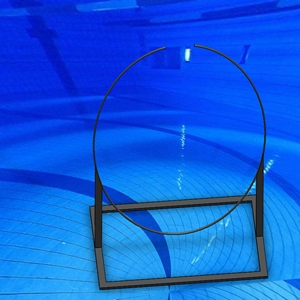circle: (89, 44, 270, 291)
